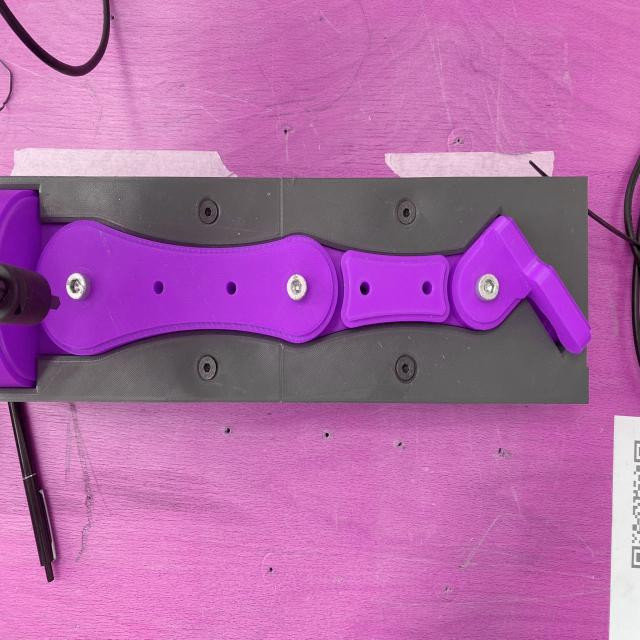HexScrew: (480, 274, 499, 302), (66, 273, 85, 300), (288, 274, 306, 302), (398, 200, 417, 226), (198, 200, 218, 224), (397, 355, 415, 381), (198, 356, 216, 380)
